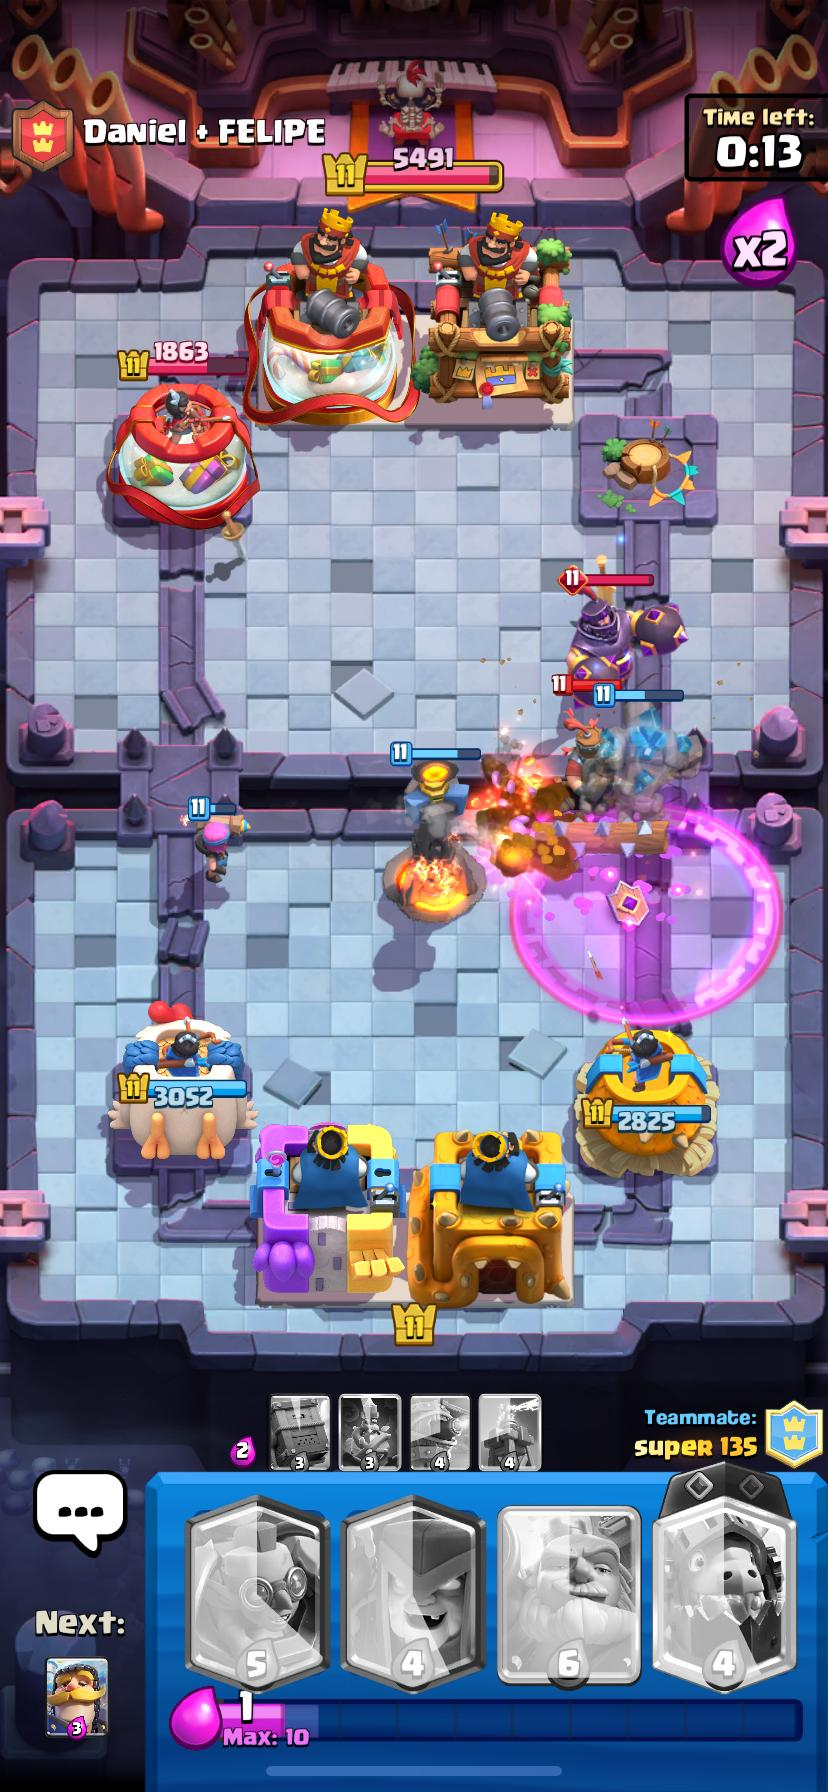EEVMegaKnight: (567, 597, 638, 689)
EKingTower: (246, 209, 404, 424), (412, 213, 571, 405)
ERoyalR: (563, 706, 600, 795)
EnemyPrincessTower: (108, 382, 258, 537)
OFirecrack: (188, 797, 250, 883)
OGolem: (614, 706, 703, 817)
OInfernoTower: (383, 755, 484, 923)
OwnKingTower: (408, 1130, 573, 1306), (252, 1123, 403, 1299)
OwnPrincessTower: (109, 1003, 256, 1159), (576, 1021, 718, 1178)
TowerDown: (579, 414, 717, 525)
